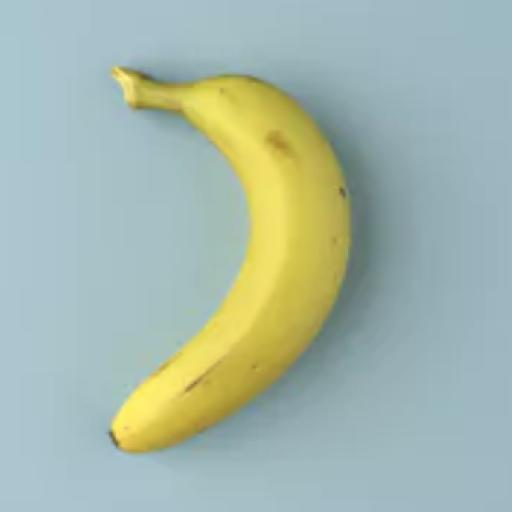banana: (111, 68, 351, 451)
